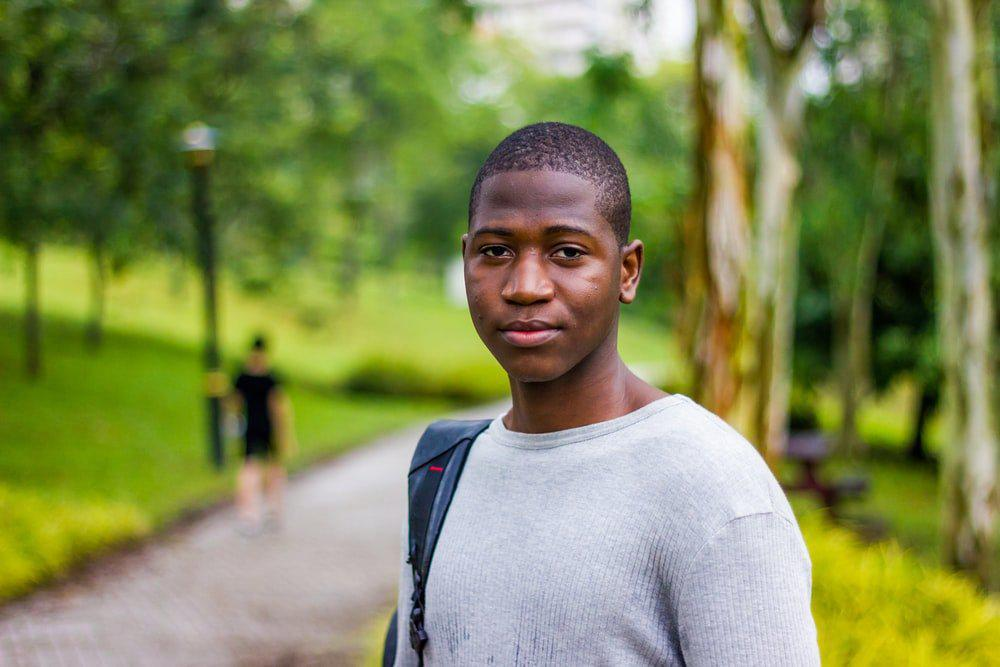Sober: (478, 182, 614, 379)
